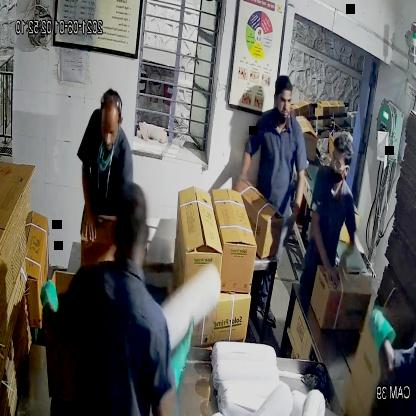goggles: (325, 149, 357, 178)
no_goggles: (97, 120, 123, 141)
